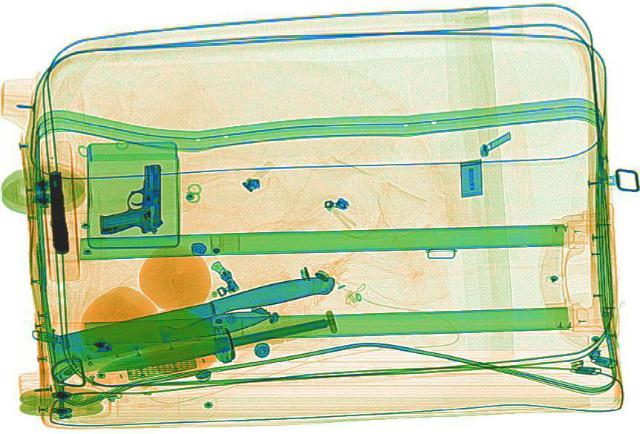Gun: (92, 161, 166, 233), (42, 169, 70, 253)
Knife: (37, 268, 356, 377), (93, 312, 333, 375), (52, 304, 274, 363)
